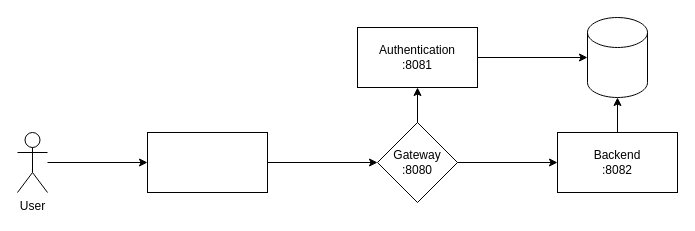
Some shapes in this 695 by 231 pixel diagram are drawn without their labels. The shapes that lost their labels are listed below. From the top down, each one's centre as x and y in pixels, then its label:
point 617,57: Database :3306
point 207,162: Frontend :80
